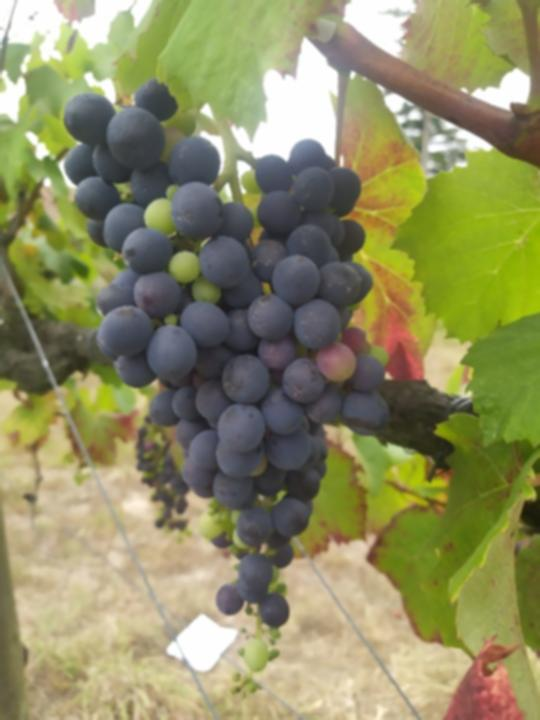grape: (62, 77, 389, 707)
